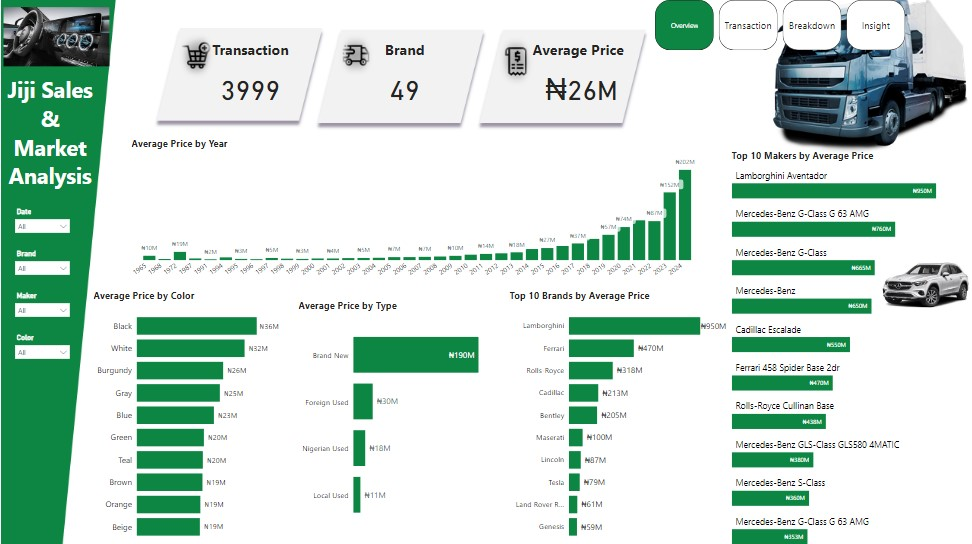

This screenshot's page, from the dashboard's own definition file:
{"tool":"powerbi","page":{"name":"Overview","canvas":[1920,1080],"ordinal":0},"visuals":[{"type":"image","box":[1731.9,391.8,188.1,344.8],"z":0},{"type":"card","title":"Average Price ","fields":{"Values":["Dax.Average Price"]},"box":[1043.9,78.7,204.1,146.7],"z":1000},{"type":"card","title":"Brand ","fields":{"Values":["Dax.Brand"]},"box":[695.2,78.7,204.1,146.7],"z":2000},{"type":"card","title":"Transaction","fields":{"Values":["Dax.Transaction"]},"box":[382.7,78.7,219,146.7],"z":3000},{"type":"lineClusteredColumnComboChart","fields":{"Category":["calender.Date.Variation.Date Hierarchy.Year"],"Y":["Dax.Average Price"]},"box":[251.8,270.6,1127.1,294.1],"z":4000},{"type":"clusteredBarChart","title":"Top 10 Makers by Average Price ","fields":{"Category":["Maker.Maker"],"Y":["Dax.blank","Dax.Average Price"]},"box":[1437.2,293.4,450.7,786.6],"z":5000},{"type":"barChart","fields":{"Y":["Dax.Average Price"],"Category":["Maker.Color"]},"box":[178.6,569.8,376.3,510.2],"z":6000},{"type":"barChart","title":"Top 10 Brands by Average Price","fields":{"Y":["Dax.Average Price"],"Category":["Brand.Brand"]},"box":[999.2,569.8,438,510.2],"z":7000},{"type":"barChart","fields":{"Category":["Maker.Type"],"Y":["Dax.Average Price"]},"box":[582.8,590.4,416.3,466.8],"z":8000},{"type":"pageNavigator","box":[1290.4,0,496.3,99.3],"z":9000},{"type":"textbox","box":[0,142.4,193.5,250.9],"z":10000},{"type":"slicer","fields":{"Values":["Brand.Brand"]},"box":[17,486.9,127.6,82.9],"z":11000},{"type":"slicer","fields":{"Values":["Maker.Maker"]},"box":[17,569.8,127.6,82.9],"z":12000},{"type":"slicer","fields":{"Values":["calender.Date"]},"box":[17,403.9,127.6,82.9],"z":14000},{"type":"image","box":[0,0,219,144.6],"z":15000},{"type":"slicer","fields":{"Values":["Maker.Color"]},"box":[17,652.7,127.6,82.9],"z":15001}]}

Visuals, with their boxes in screenshot pixels (x1, y1, x2, y2), scaled from the page's 1920x1080 canvas onto the 972x544 screenshot:
image: x1=877 y1=197 x2=971 y2=371
"Average Price " card: x1=528 y1=40 x2=632 y2=114
"Brand " card: x1=352 y1=40 x2=455 y2=114
"Transaction" card: x1=194 y1=40 x2=305 y2=114
lineClusteredColumnComboChart - calender.Date.Variation.Date Hierarchy.Year x Dax.Average Price: x1=127 y1=136 x2=698 y2=284
"Top 10 Makers by Average Price " clusteredBarChart: x1=728 y1=148 x2=956 y2=543
barChart - Dax.Average Price x Maker.Color: x1=90 y1=287 x2=281 y2=543
"Top 10 Brands by Average Price" barChart: x1=506 y1=287 x2=728 y2=543
barChart - Maker.Type x Dax.Average Price: x1=295 y1=297 x2=506 y2=533
pageNavigator: x1=653 y1=0 x2=905 y2=50
textbox: x1=0 y1=72 x2=98 y2=198
slicer - Brand.Brand: x1=9 y1=245 x2=73 y2=287
slicer - Maker.Maker: x1=9 y1=287 x2=73 y2=329
slicer - calender.Date: x1=9 y1=203 x2=73 y2=245
image: x1=0 y1=0 x2=111 y2=73
slicer - Maker.Color: x1=9 y1=329 x2=73 y2=371
